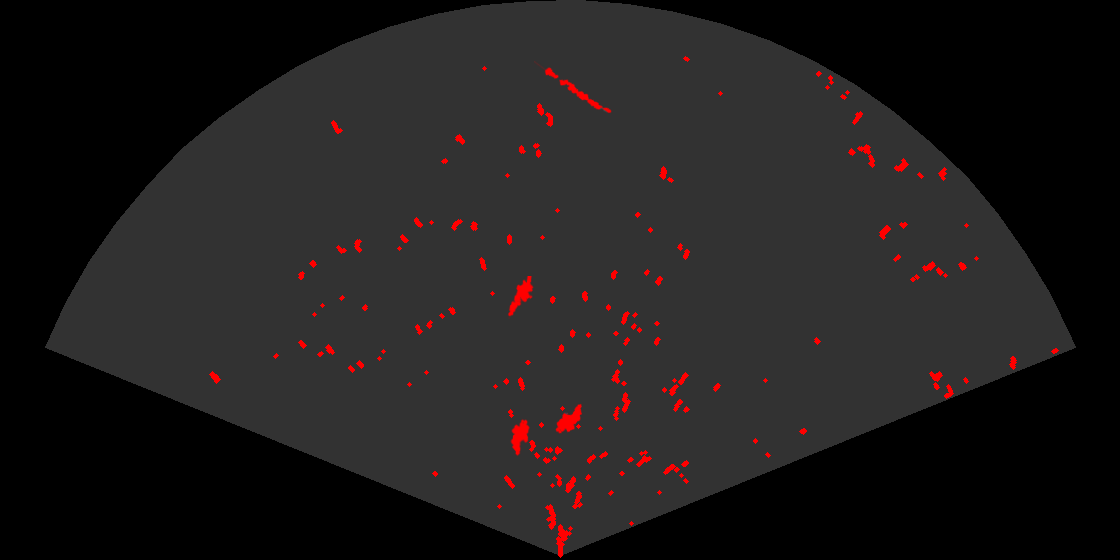AUV: (554, 402, 584, 435), (509, 417, 531, 458)
chain: (534, 61, 613, 115)
frogman: (506, 276, 535, 319)
